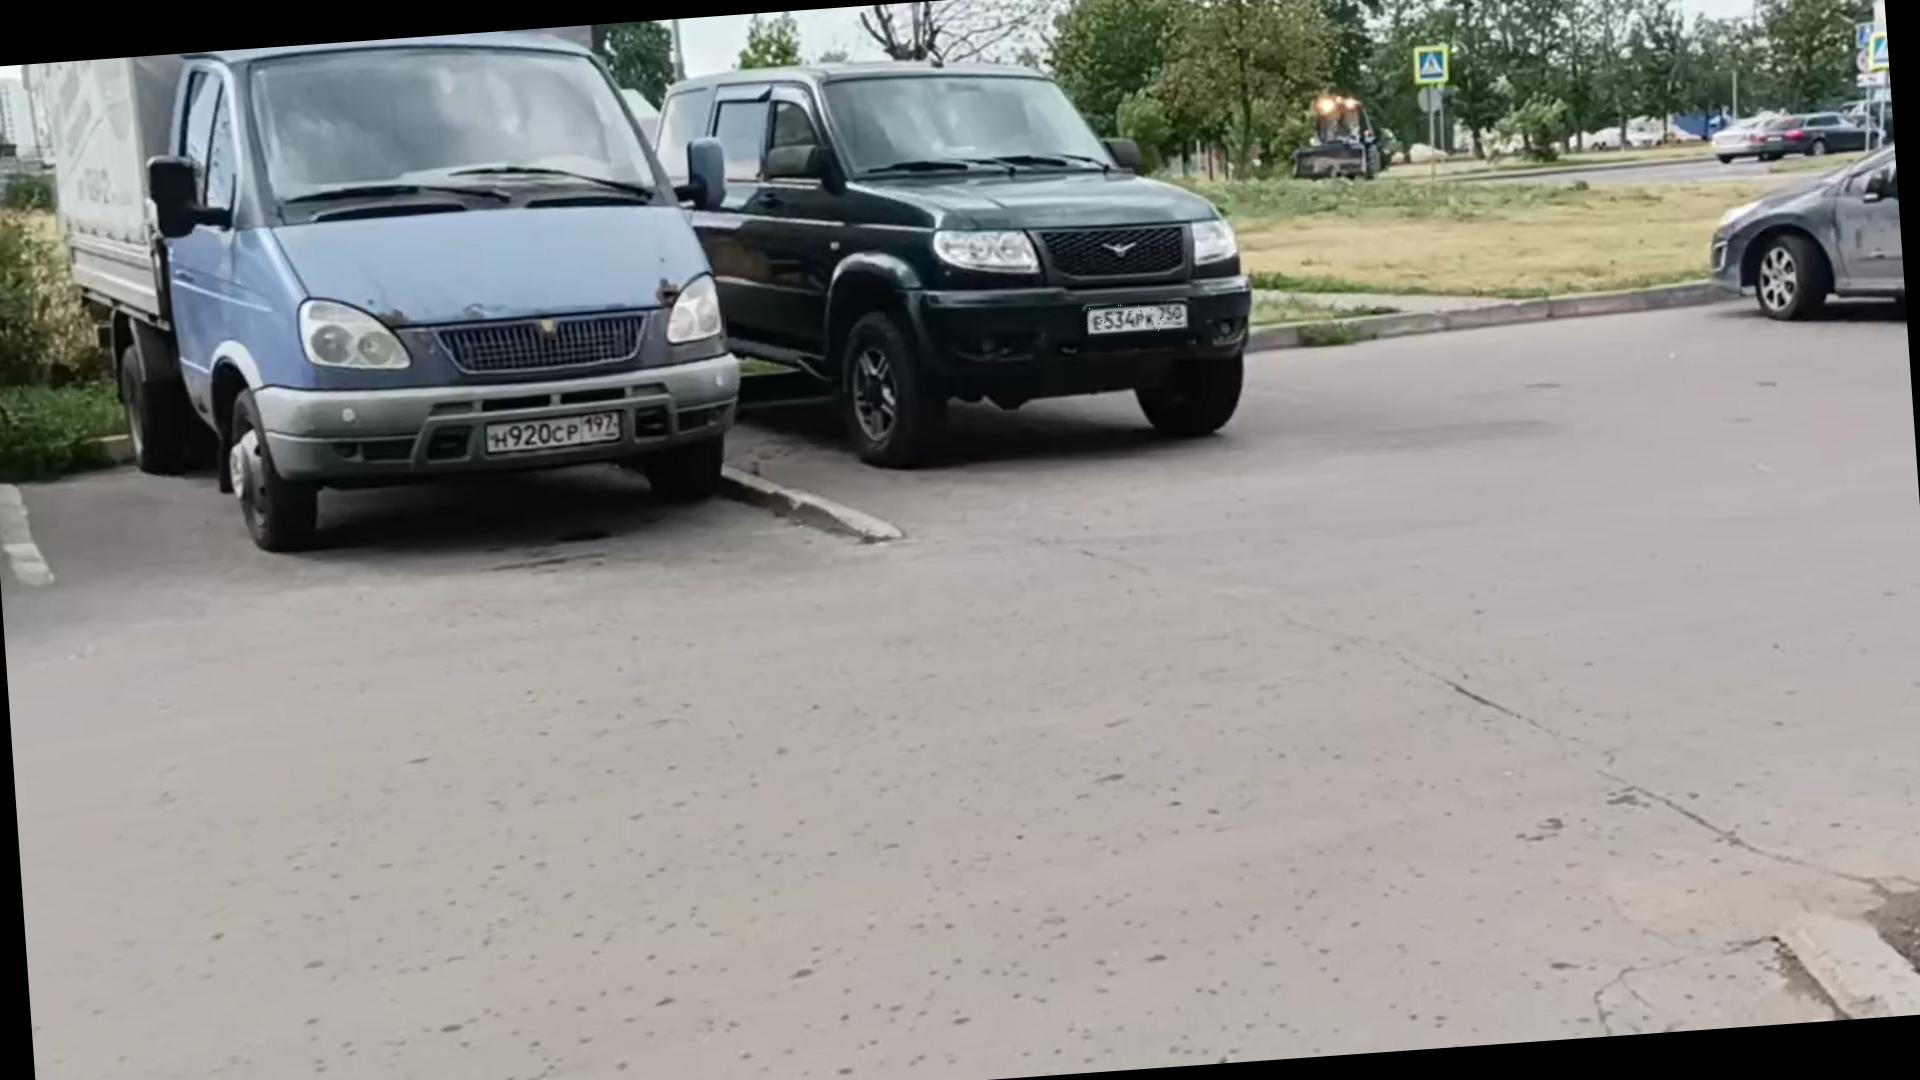plate: (488, 410, 629, 458), (1088, 301, 1188, 338)
